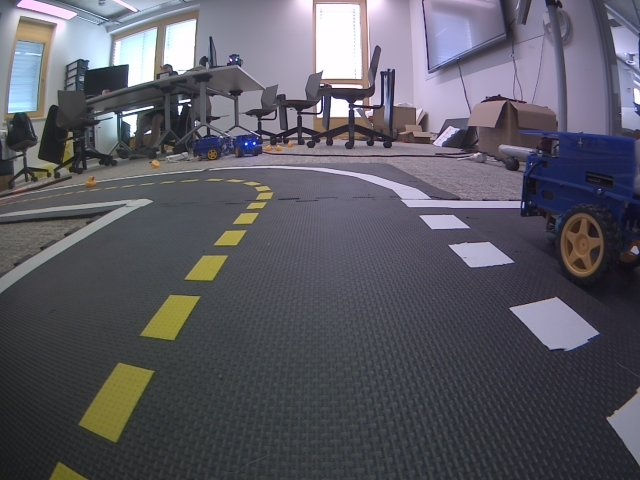Bot: (521, 131, 640, 285), (192, 139, 222, 160), (234, 135, 260, 157), (228, 53, 241, 67)
occupiedSlot: (401, 198, 640, 468)
